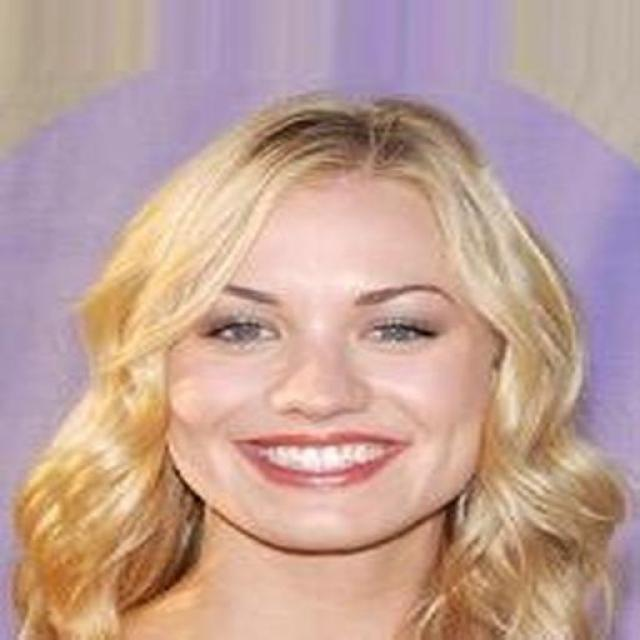bareface: (147, 123, 516, 561)
